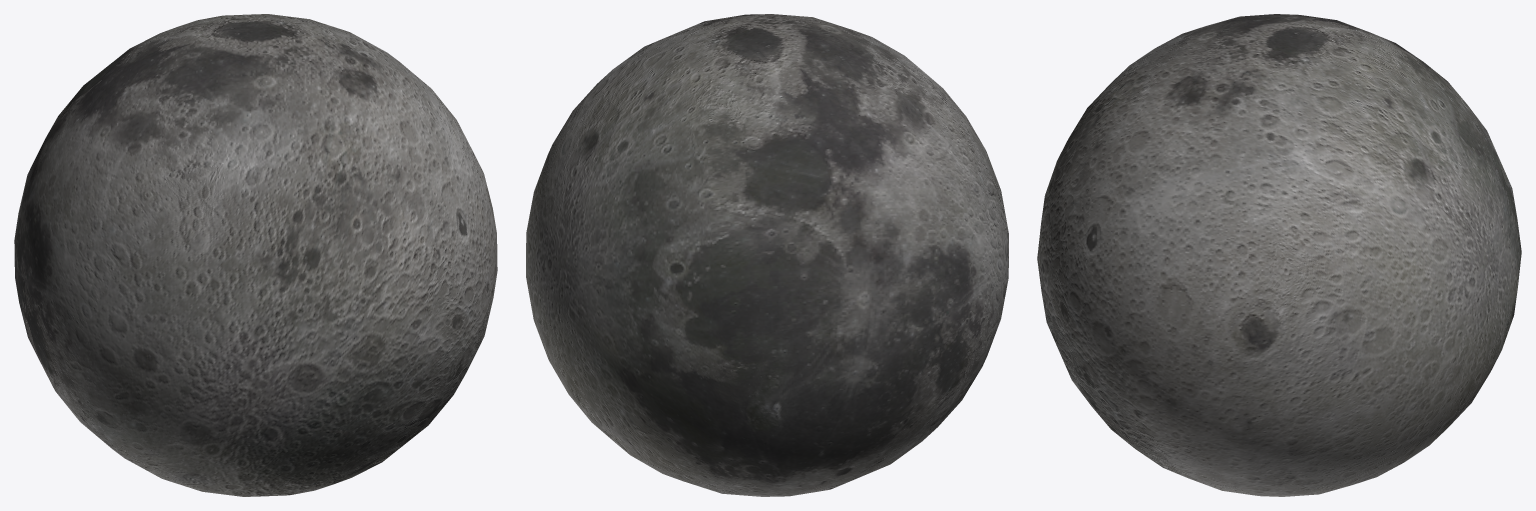
The model's file is moon_planet.glb.
3 views of the same model, side by side, from view 1: azimuth 30°, elevation 25°; view 2: azimuth 150°, elevation 25°; view 3: azimuth 270°, elevation 25° (orthographic).
Visible parts, largest first — view 1: Moon; view 2: Moon; view 3: Moon.
Part boxes in pixels (box(x1,y1,x2,y2)): Moon: box(14, 14, 497, 496); Moon: box(526, 14, 1008, 496); Moon: box(1037, 14, 1521, 496).
Size of the model in its own units: 3.48 by 3.48 by 3.49.
1 material, 1 textured.
